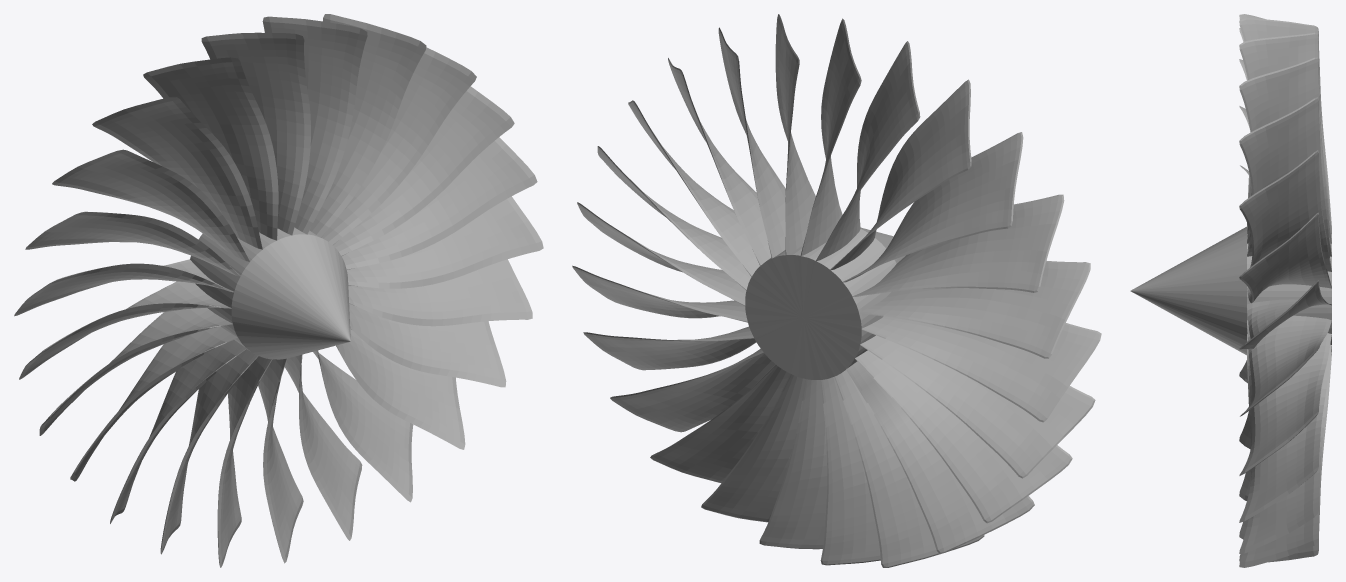
The model's file is fan.obj.
3 views of the same model, side by side, from view 1: azimuth 30°, elevation 25°; view 2: azimuth 150°, elevation 25°; view 3: azimuth 270°, elevation 25° (orthographic). The views are drawn at different scales.
Visible parts, largest first — view 1: polySurface278; view 2: polySurface278; view 3: polySurface278.
Boxes of the visible parts, box(x1,y1,x2,y2) form: polySurface278: box(14, 14, 543, 567); polySurface278: box(572, 14, 1101, 567); polySurface278: box(1130, 14, 1331, 567).
Bounding box in the file's own units: 0.6875 × 0.6875 × 0.25.
